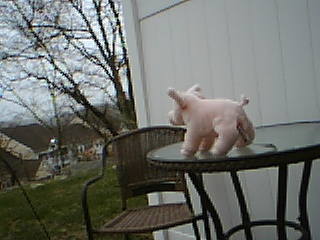piggy: (165, 82, 257, 158)
